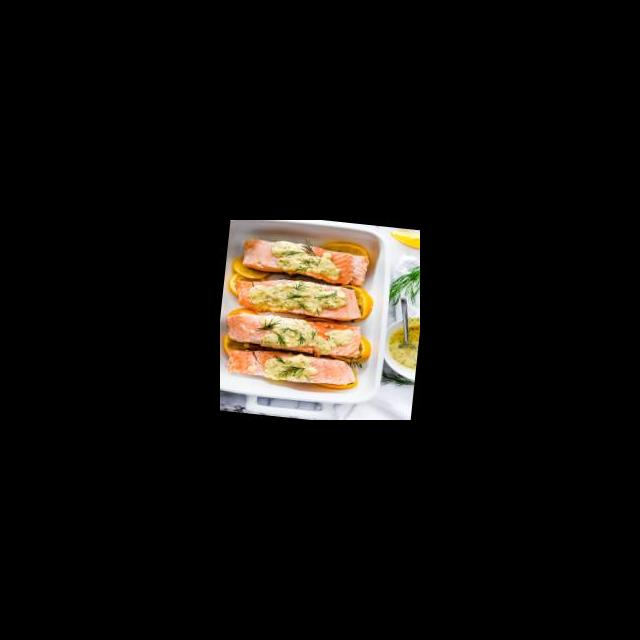ca hoi: (220, 299, 373, 359), (235, 230, 376, 292), (220, 336, 367, 395), (232, 271, 368, 323)
